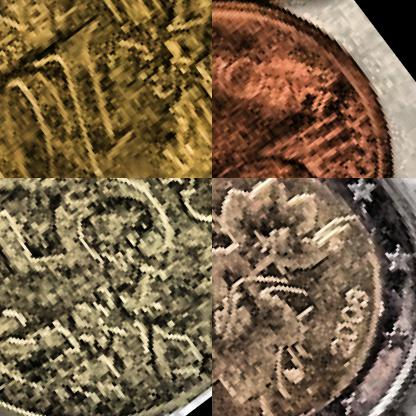coin: (0, 178, 211, 415), (212, 178, 415, 415), (0, 0, 211, 177), (212, 0, 415, 177)
